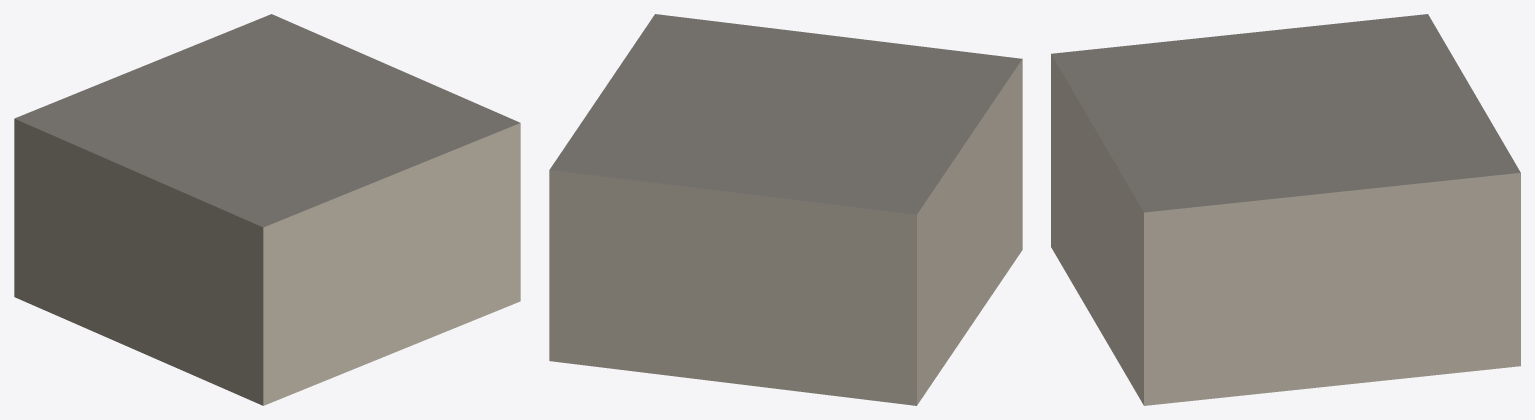
3 renders of one model, left to right at view 1: azimuth 30°, elevation 25°; view 2: azimuth 150°, elevation 25°; view 3: azimuth 270°, elevation 25°, orthographic. The views are drawn at different scales.
Parts seen in each view (by area): view 1: HP-w1285721989; view 2: HP-w1285721989; view 3: HP-w1285721989.
Part boxes in pixels (x1,y1,x2,y2): HP-w1285721989: [14, 14, 520, 405]; HP-w1285721989: [549, 14, 1022, 405]; HP-w1285721989: [1051, 14, 1520, 405].
Size of the model in its own units: 39.62 by 18 by 39.62.
